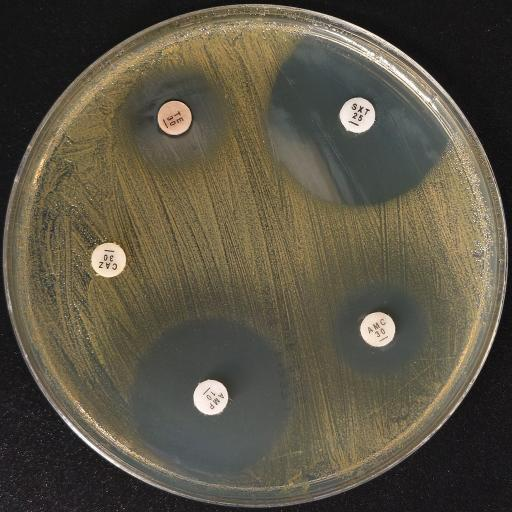disc: (339, 97, 375, 133), (157, 100, 192, 136), (91, 242, 126, 278), (360, 312, 396, 347), (194, 379, 228, 415)
